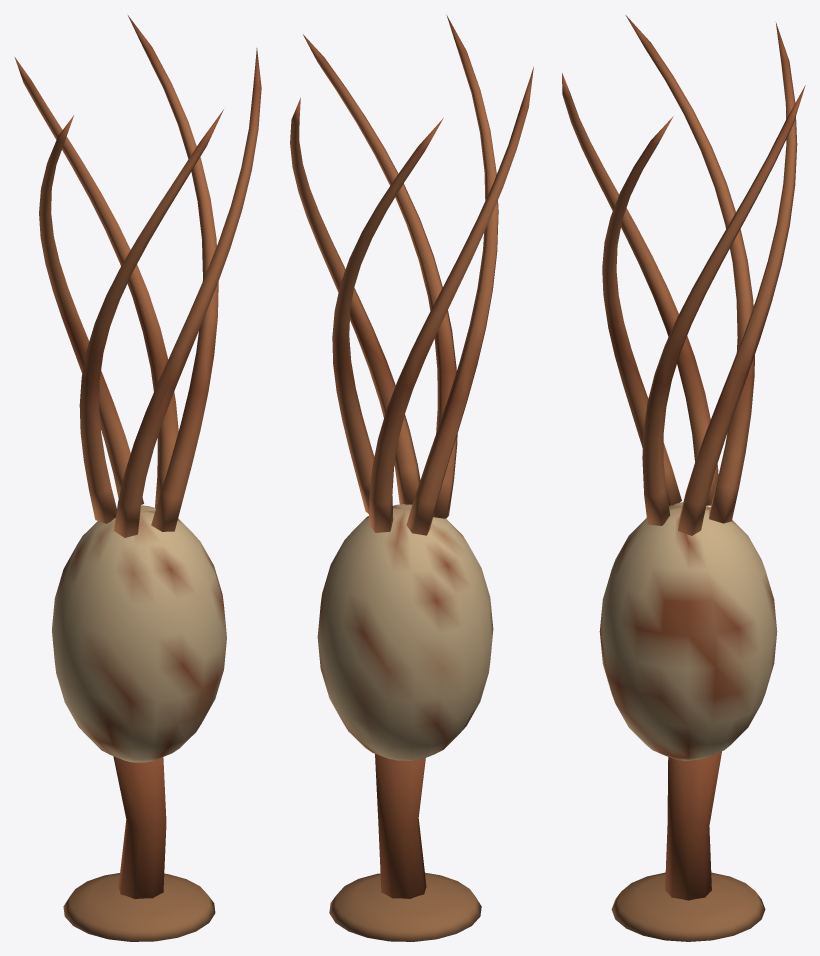
Rendered from Gogia.fbx.
3 renders of one model, left to right at view 1: azimuth 30°, elevation 25°; view 2: azimuth 150°, elevation 25°; view 3: azimuth 270°, elevation 25°, orthographic.
Visible parts, largest first — view 1: Gogia; view 2: Gogia; view 3: Gogia.
Part boxes in pixels (x1=…): Gogia: x1=14, y1=15, x2=261, y2=941; Gogia: x1=290, y1=15, x2=533, y2=941; Gogia: x1=562, y1=15, x2=805, y2=941.
Size of the model in its own units: 0.3071 by 1.16 by 0.3024.
